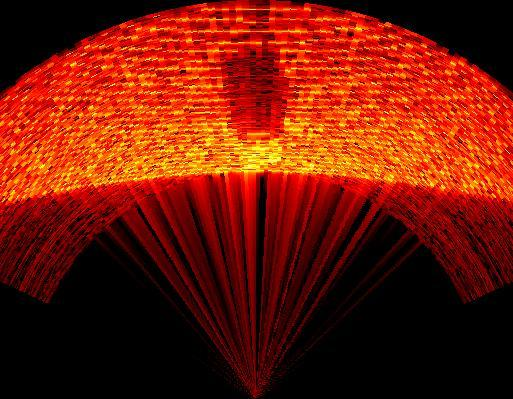box_crate: (217, 42, 295, 146)
